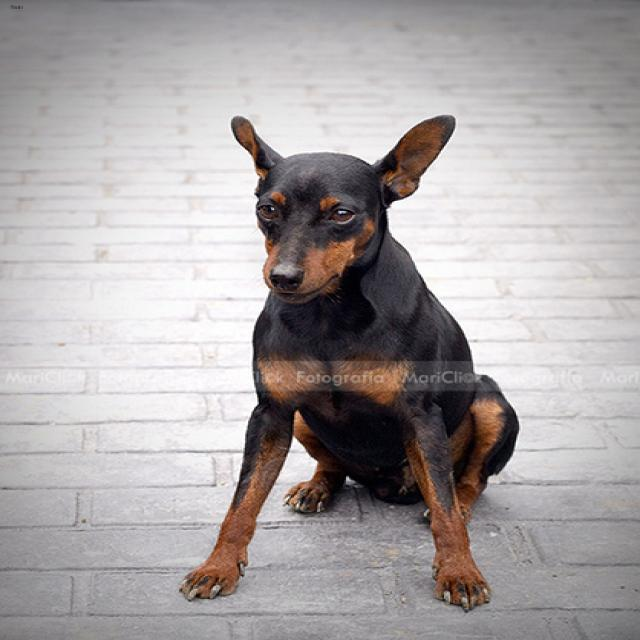dog-miniature_pinscher: (165, 110, 522, 622)
